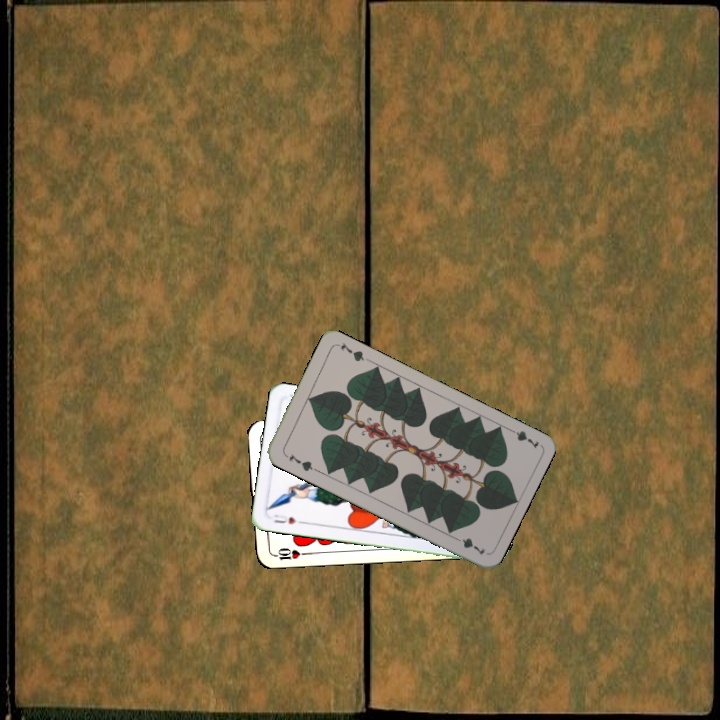G7: (503, 423, 542, 451), (280, 449, 318, 474)
H10: (269, 544, 309, 563)
HU: (269, 510, 306, 527)
